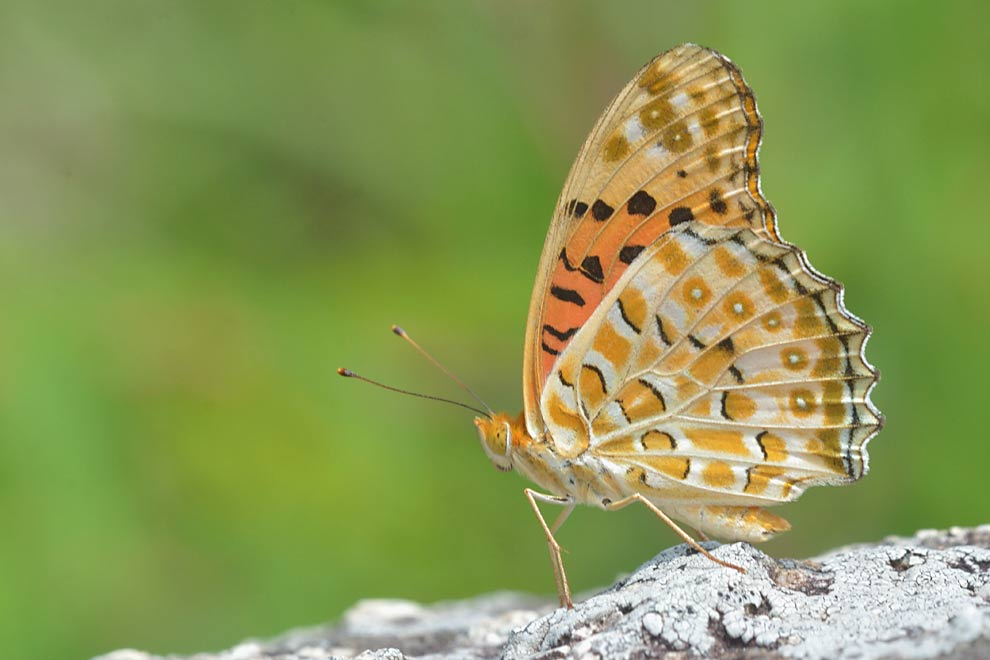Argyreus hyperbius: (331, 42, 886, 607)
butterfly: (333, 44, 888, 609)
